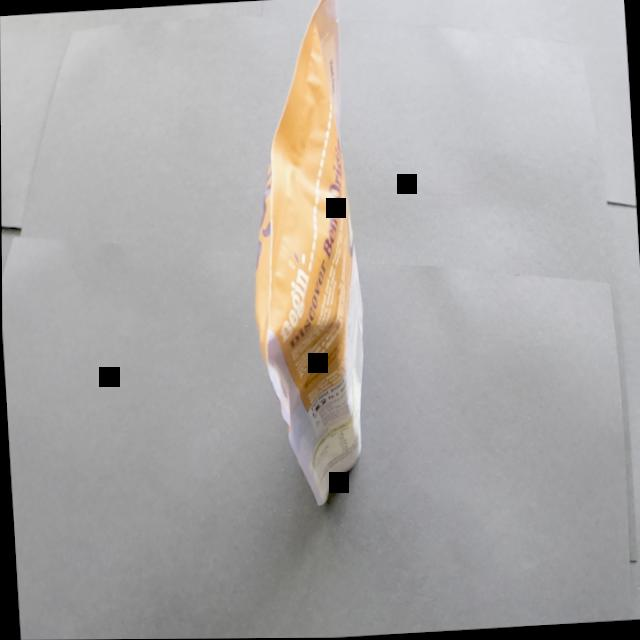Basmatirice: (229, 0, 407, 547)
